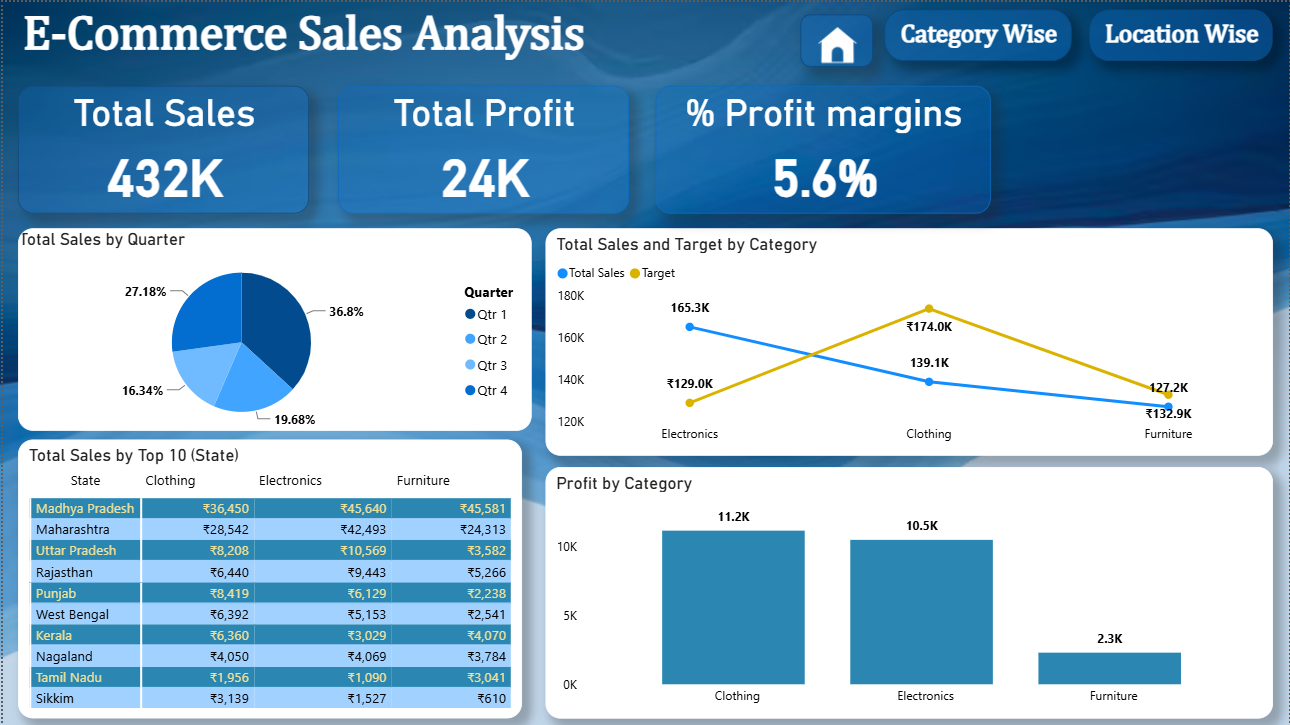

The page's visual inventory and layout, read from the dashboard file:
{"tool":"powerbi","page":{"name":"Overall ","canvas":[1280,720],"ordinal":0},"visuals":[{"type":"textbox","box":[14.9,0,608.3,69.7],"z":0},{"type":"card","title":"Total Sales","fields":{"Values":["Order Details.Total Sales"]},"box":[14.9,83.3,289.8,126.9],"z":1000},{"type":"card","title":"Total Profit","fields":{"Values":["Order Details.Total Profit"]},"box":[333.4,83.3,289.8,126.9],"z":2000},{"type":"lineChart","fields":{"Category":["Order Details.Category"],"Y":["Order Details.Total Sales","Sum(Sales target.Target)"]},"box":[539.9,225.2,724,226.4],"z":3000},{"type":"pivotTable","title":" Total Sales by Top 10 (State)","fields":{"Rows":["List of Orders.State"],"Values":["Sum(Order Details.Amount)"],"Columns":["Sales target.Category"]},"box":[14.9,435.4,501.3,277.4],"z":4000},{"type":"clusteredColumnChart","title":"Profit by Category","fields":{"Category":["Order Details.Category"],"Y":["Sum(Order Details.Profit)"]},"box":[539.9,462.8,724,250],"z":5000},{"type":"card","title":"% Profit margins","fields":{"Values":["Order Details.profit margin"]},"box":[649.3,83.3,333.4,126.9],"z":6000},{"type":"actionButton","box":[793.6,12.4,72.1,52.2],"z":7000},{"type":"actionButton","title":"Over All","box":[877.6,6.9,186.8,50.8],"z":8000},{"type":"actionButton","title":"Over All","box":[1080.9,6.9,182.7,50.8],"z":9000},{"type":"pieChart","title":"Total Sales by Quarter","fields":{"Category":["List of Orders.Order Date.Variation.Date Hierarchy.Quarter"],"Y":["Sum(Order Details.Amount)"]},"box":[14.9,225.2,511.3,201.5],"z":10000}]}

Visuals, with their boxes in screenshot pixels (x1, y1, x2, y2), scaled from the page's 1280x720 canvas onto the 1290x725 screenshot:
textbox: rect(15, 0, 628, 70)
"Total Sales" card: rect(15, 84, 307, 212)
"Total Profit" card: rect(336, 84, 628, 212)
lineChart - Order Details.Category x Order Details.Total Sales: rect(544, 227, 1274, 455)
" Total Sales by Top 10 (State)" pivotTable: rect(15, 438, 520, 718)
"Profit by Category" clusteredColumnChart: rect(544, 466, 1274, 718)
"% Profit margins" card: rect(654, 84, 990, 212)
actionButton: rect(800, 12, 872, 65)
"Over All" actionButton: rect(884, 7, 1073, 58)
"Over All" actionButton: rect(1089, 7, 1273, 58)
"Total Sales by Quarter" pieChart: rect(15, 227, 530, 430)
